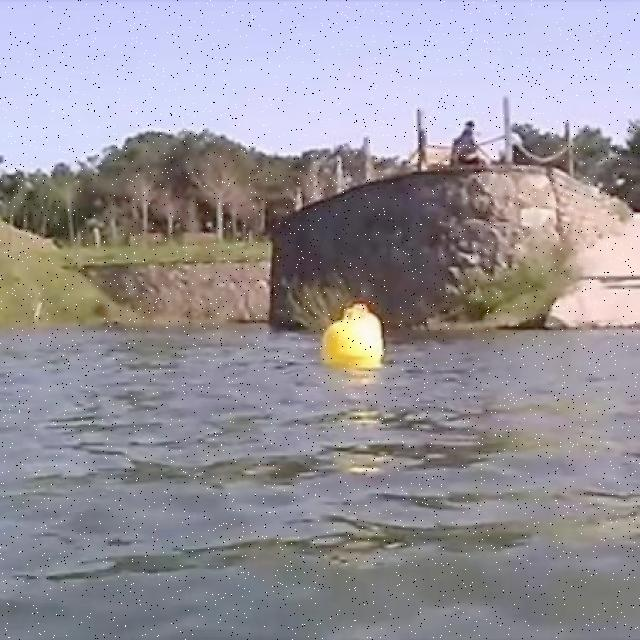buoy: (318, 310, 382, 366)
